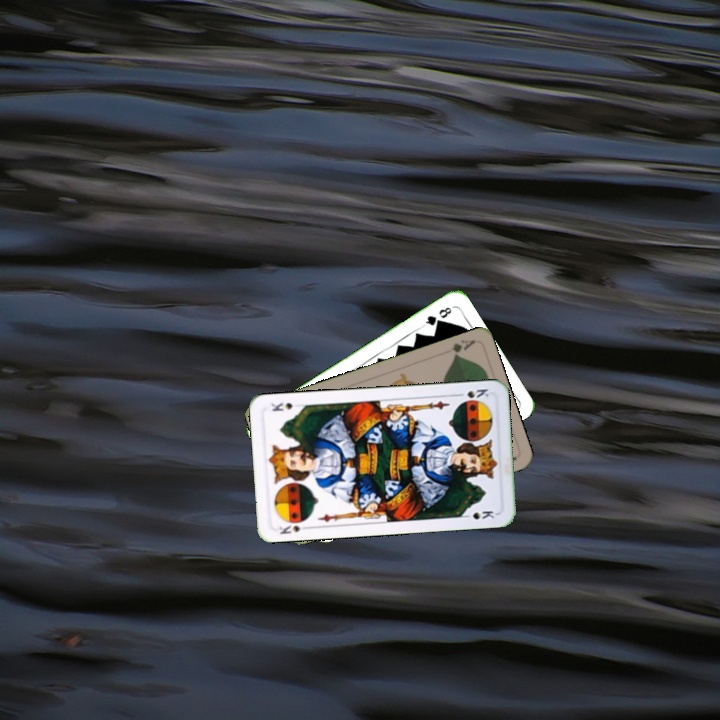G8: (419, 303, 454, 329)
GA: (448, 335, 477, 360)
SK: (452, 385, 491, 404), (275, 521, 312, 537)
